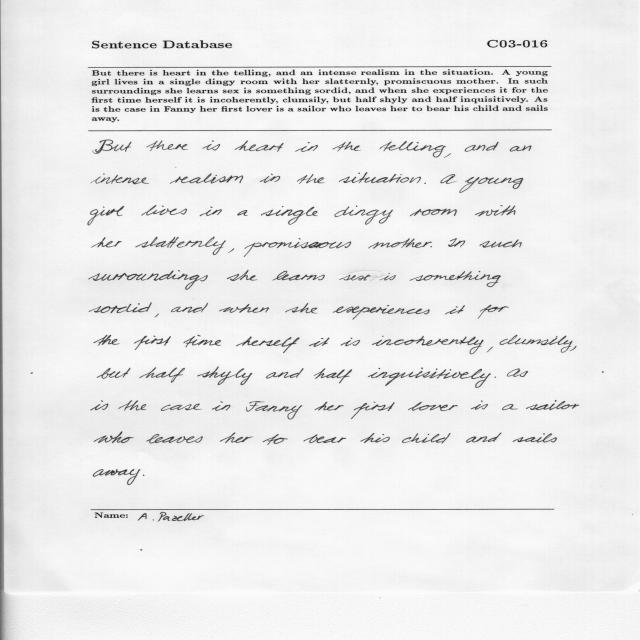word: (368, 367, 496, 388), (89, 270, 208, 290), (244, 238, 351, 257), (372, 336, 484, 354), (135, 237, 226, 255), (410, 271, 501, 287), (333, 305, 430, 320), (500, 335, 573, 353), (335, 206, 393, 225), (261, 206, 318, 225), (246, 401, 302, 420), (380, 141, 446, 157), (460, 177, 524, 193), (236, 337, 299, 353), (197, 367, 252, 385), (339, 173, 421, 184), (170, 173, 243, 184), (93, 469, 141, 485), (139, 367, 185, 383), (351, 402, 394, 419), (368, 238, 432, 249), (88, 206, 124, 225), (91, 174, 149, 185), (89, 303, 152, 313), (314, 369, 352, 384), (146, 434, 203, 444), (235, 141, 284, 152), (94, 140, 132, 154), (526, 400, 579, 410), (402, 433, 450, 444), (273, 271, 325, 281), (134, 336, 171, 350), (141, 205, 187, 216), (475, 205, 516, 217), (146, 141, 188, 152), (183, 335, 221, 347), (219, 304, 269, 313), (408, 402, 458, 411), (478, 305, 509, 319), (95, 432, 134, 443), (266, 368, 304, 379), (466, 432, 502, 443), (513, 434, 557, 443), (479, 239, 522, 248), (304, 435, 347, 444), (171, 303, 208, 313), (97, 368, 130, 379), (220, 433, 253, 444), (227, 270, 258, 281), (465, 142, 499, 152), (410, 209, 457, 216), (286, 303, 318, 313), (119, 400, 147, 411), (92, 237, 122, 247), (360, 433, 390, 443), (161, 404, 202, 411), (94, 335, 120, 346), (333, 142, 361, 152), (297, 174, 325, 184), (263, 434, 288, 445), (315, 402, 344, 411), (295, 142, 318, 152), (200, 207, 222, 217), (309, 337, 329, 347), (203, 140, 221, 151), (212, 401, 231, 411), (340, 275, 371, 281), (260, 174, 280, 183), (445, 305, 465, 314), (441, 174, 458, 184), (91, 401, 108, 411), (507, 369, 528, 377), (448, 238, 465, 247), (471, 401, 488, 410), (341, 338, 360, 346), (510, 146, 531, 152), (379, 273, 396, 280), (502, 404, 518, 410), (237, 210, 248, 216), (487, 347, 493, 353), (444, 153, 451, 158), (570, 346, 577, 351), (228, 249, 234, 253), (155, 314, 159, 318), (602, 371, 604, 373), (424, 183, 426, 184), (430, 246, 432, 247), (143, 475, 145, 476)
